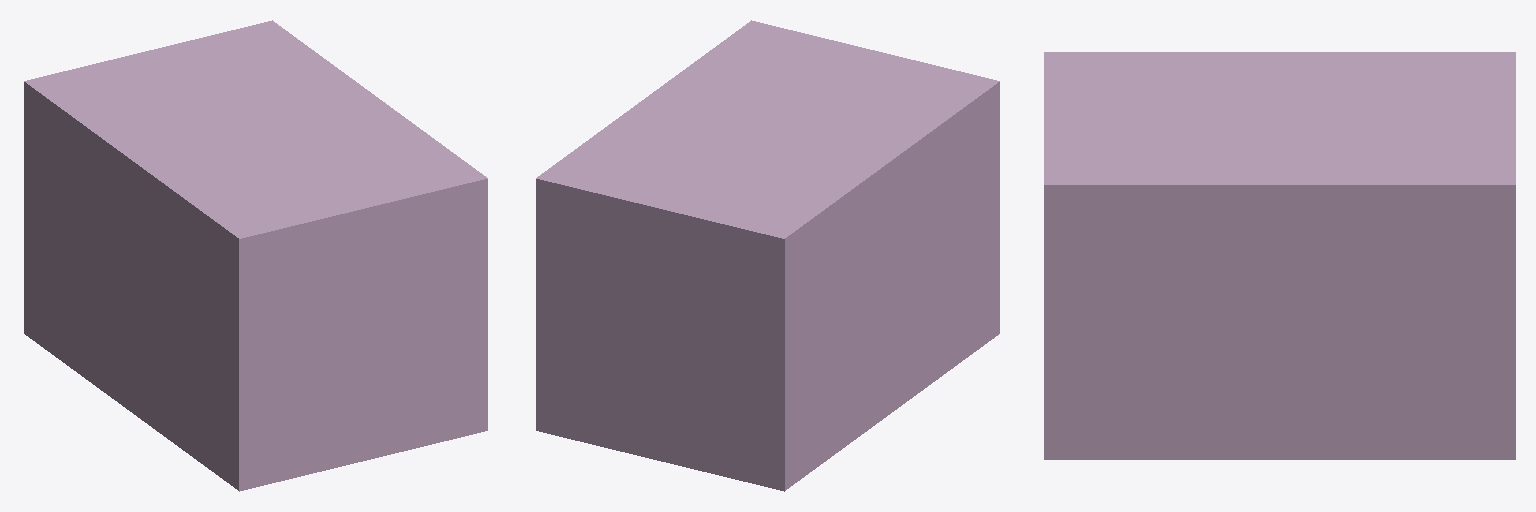
The robot description file, URDF, robot "box.urdf":
<?xml version="1.0" ?>
<robot name="box.urdf">
  <link name="baseLink">
    <contact>
      <lateral_friction value="1.0"/>
      <rolling_friction value="0.0001"/>
      <inertia_scaling value="3.0"/>
    </contact>
    <inertial>
      <origin rpy="0 0 0" xyz="0 0 0"/>
       <mass value="0.1"/>
       <inertia ixx="1" ixy="0" ixz="0" iyy="1" iyz="0" izz="1"/>
    </inertial>
    <visual>
      <origin rpy="0 0 0" xyz="0 0 0"/>
      <geometry>
        <!-- <box size="0.22899999999999998 0.344 0.222"/> -->
        <mesh filename="box/box.obj" scale="0.22899999999999998 0.344 0.222"/>
      </geometry>
      <material name="white">
        <color rgba="0.8 0.7 0.8 1"/>
      </material>
    </visual>
    <collision>
      <origin rpy="0 0 0" xyz="0 0 0"/>
      <geometry>
        <mesh filename="box/box.obj" scale="0.22899999999999998 0.344 0.222"/>
	 	    <!-- <box size="0.22899999999999998 0.344 0.222"/> -->
      </geometry>
    </collision>
  </link>
</robot>

--- Facts derived from the render (not from the file) ---
3 views of the same robot in one strip: view 1: azimuth 30°, elevation 25°; view 2: azimuth 150°, elevation 25°; view 3: azimuth 270°, elevation 25° (orthographic).
Robot: box.urdf — 1 links, 0 joints (none); root link baseLink; default pose: all joints at 0.
Visible links, largest first — view 1: baseLink; view 2: baseLink; view 3: baseLink.
Link boxes in pixels (<box>): baseLink: <box>24,20,487,491</box>; baseLink: <box>536,20,999,491</box>; baseLink: <box>1044,52,1515,459</box>.
Bounding box of the posed robot: 0.229 × 0.344 × 0.222 m (x, y, z).
Meshes: 1 distinct files referenced, 1 mesh visuals loaded (1 OBJ).
